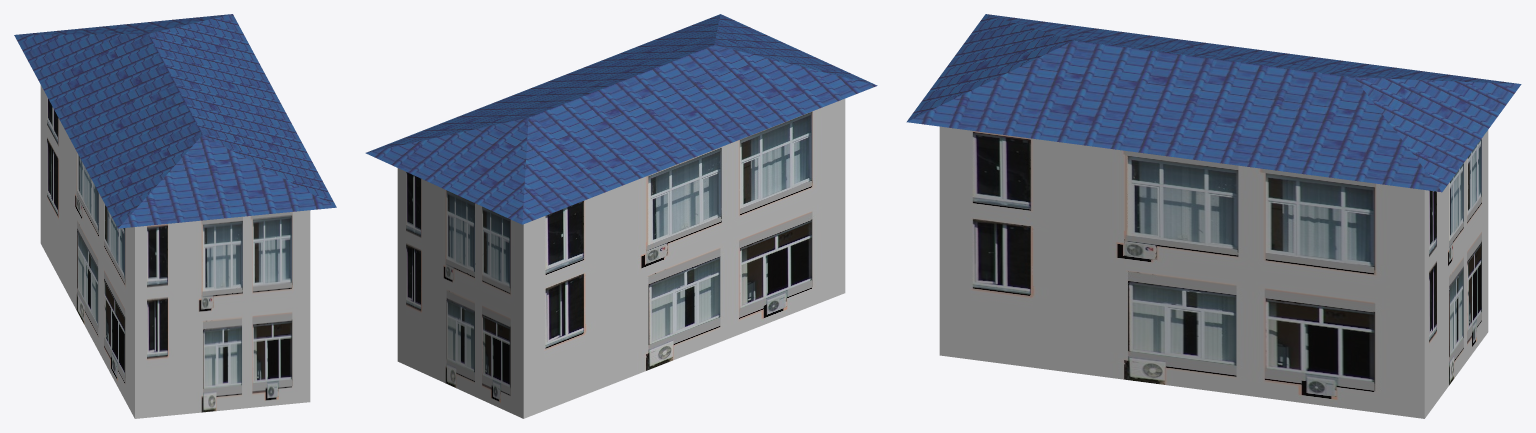
3 renders of one model, left to right at view 1: azimuth 30°, elevation 25°; view 2: azimuth 150°, elevation 25°; view 3: azimuth 270°, elevation 25°, orthographic. The views are drawn at different scales.
Parts seen in each view (by area): view 1: CityEngineMaterial_9_m, CityEngineMaterial_10_m; view 2: CityEngineMaterial_9_m, CityEngineMaterial_10_m; view 3: CityEngineMaterial_9_m, CityEngineMaterial_10_m.
Part boxes in pixels (bbox=[...]): CityEngineMaterial_9_m: bbox=[40, 85, 310, 418]; CityEngineMaterial_10_m: bbox=[14, 14, 336, 228]; CityEngineMaterial_9_m: bbox=[397, 98, 845, 418]; CityEngineMaterial_10_m: bbox=[365, 14, 877, 224]; CityEngineMaterial_9_m: bbox=[939, 126, 1488, 418]; CityEngineMaterial_10_m: bbox=[906, 14, 1521, 192].
Size of the model in its own units: 14.85 by 11.07 by 21.65.
